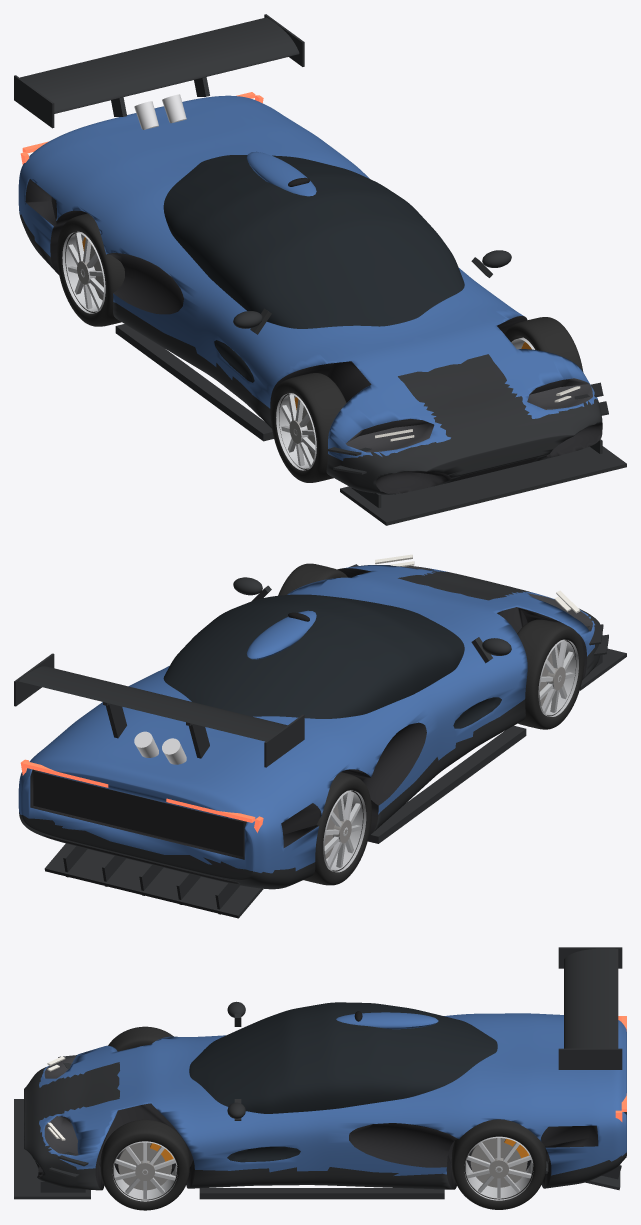
The model's file is supercar_roblox.fbx.
3 views of the same model, one above another, from view 1: azimuth 30°, elevation 25°; view 2: azimuth 150°, elevation 25°; view 3: azimuth 270°, elevation 25° (orthographic). The views are drawn at different scales.
Parts seen in each view (by area): view 1: Body, Cabin, RearWing, Splitter, Wheel_FL, Wheel_RL, SideSkirts, Wheel_FR, WingSupports, RoofScoop, Mirrors, Exhausts; view 2: Body, Cabin, RearGrille, Diffuser, Wheel_FL, RearWing, Wheel_RL, SideSkirts, WingSupports, RoofScoop, Mirrors, Taillights (+4 smaller); view 3: Body, Cabin, Wheel_RR, Wheel_FR, RearWing, SideSkirts, Splitter, WingSupports, RoofScoop, Wheel_FL, Mirrors, Diffuser (+1 smaller).
Part boxes in pixels (x1,y1,x2,y2): Body: [18, 95, 602, 494]; Cabin: [163, 155, 464, 328]; RearWing: [20, 17, 299, 113]; Splitter: [340, 439, 626, 525]; Wheel_FL: [271, 373, 346, 482]; Wheel_RL: [57, 213, 124, 326]; SideSkirts: [115, 324, 273, 441]; Wheel_FR: [505, 317, 583, 371]; WingSupports: [14, 14, 304, 128]; RoofScoop: [247, 151, 316, 196]; Mirrors: [233, 250, 511, 334]; Exhausts: [134, 94, 186, 129]; Body: [18, 565, 602, 889]; Cabin: [163, 594, 464, 718]; RearGrille: [33, 770, 245, 856]; Diffuser: [44, 843, 263, 918]; Wheel_FL: [517, 619, 584, 729]; RearWing: [18, 666, 287, 741]; Wheel_RL: [304, 772, 371, 885]; SideSkirts: [368, 725, 526, 843]; WingSupports: [14, 653, 304, 767]; RoofScoop: [246, 610, 316, 659]; Mirrors: [233, 577, 511, 663]; Taillights: [20, 759, 263, 832]; Body: [24, 1013, 626, 1190]; Cabin: [189, 1002, 497, 1113]; Wheel_RR: [451, 1119, 546, 1209]; Wheel_FR: [100, 1119, 189, 1210]; RearWing: [564, 948, 618, 1048]; SideSkirts: [199, 1188, 444, 1199]; Splitter: [14, 1099, 90, 1199]; WingSupports: [558, 947, 622, 1069]; RoofScoop: [336, 1012, 438, 1029]; Wheel_FL: [108, 1026, 173, 1051]; Mirrors: [227, 1001, 245, 1120]; Diffuser: [545, 1156, 621, 1190].
Bounding box in the file's own units: 2 × 1.34 × 4.63.
